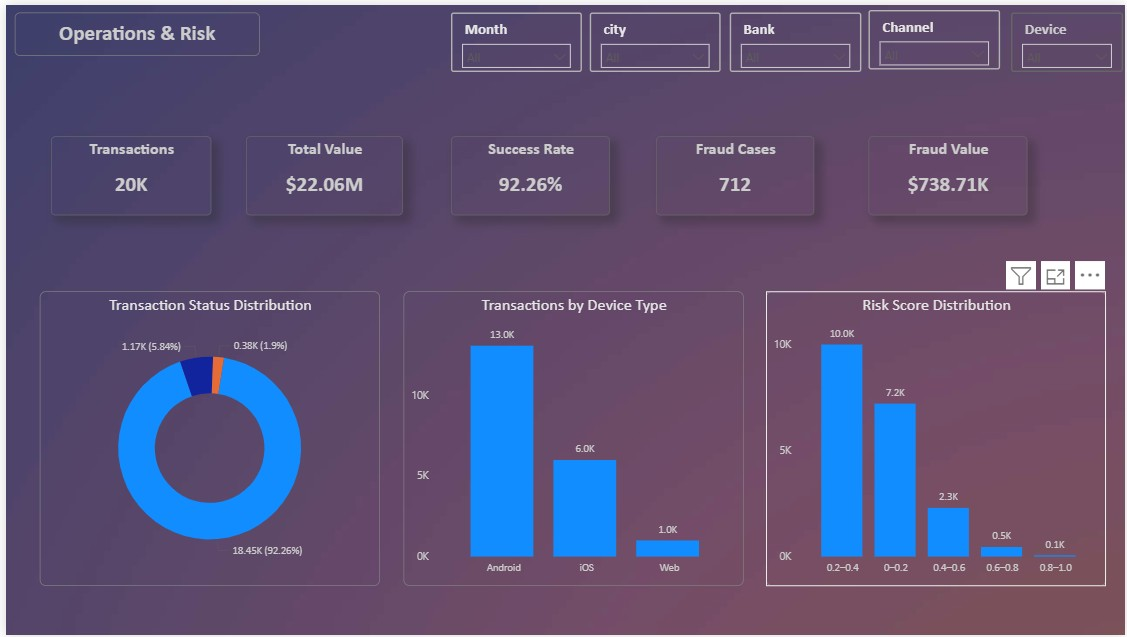

The dashboard page shown, as its layout file describes it:
{"tool":"powerbi","page":{"name":"Operations & Risk","canvas":[1280,720],"ordinal":2},"visuals":[{"type":"textbox","box":[10.5,9.2,280.1,49.7],"z":0},{"type":"card","title":"Transactions  ","fields":{"Values":["upi_transactions1.Total Transactions"]},"box":[51.1,150.5,183.3,90.3],"z":1000},{"type":"card","title":"Total Value","fields":{"Values":["upi_transactions1.Total Value"]},"box":[274.9,150.5,179.3,90.3],"z":2000},{"type":"card","title":"Success Rate  ","fields":{"Values":["upi_transactions1.Success Rate %"]},"box":[507.9,150.5,182,90.3],"z":3000},{"type":"card","title":" Fraud Cases ","fields":{"Values":["upi_transactions1.Fraud Cases"]},"box":[742.2,150.5,180.7,90.3],"z":4000},{"type":"card","title":"Fraud Value   ","fields":{"Values":["upi_transactions1.Fraud Value"]},"box":[985.7,150.5,182,90.3],"z":5000},{"type":"donutChart","title":"Transaction Status Distribution","fields":{"Y":["CountNonNull(upi_transactions1.transaction_id)"],"Category":["upi_transactions1.status"]},"box":[39.3,327.3,388.8,336.4],"z":5001},{"type":"clusteredColumnChart","title":"Transactions by Device Type","fields":{"Category":["upi_transactions1.device_type"],"Y":["CountNonNull(upi_transactions1.transaction_id)"]},"box":[454.2,327.3,388.8,336.4],"z":5004},{"type":"clusteredColumnChart","title":"Risk Score Distribution","fields":{"Category":["upi_transactions1.Risk Score Band"],"Y":["CountNonNull(upi_transactions1.transaction_id)"]},"box":[867.9,327.3,388.8,336.4],"z":5005},{"type":"slicer","fields":{"Values":["upi_transactions1.channel"]},"box":[986.3,6.3,150.2,68],"z":5006},{"type":"slicer","fields":{"Values":["upi_transactions1.bank"]},"box":[826.7,7.9,150.2,68],"z":5007},{"type":"slicer","fields":{"Values":["upi_transactions1.city"]},"box":[667.6,9.2,149.2,68.1],"z":5008},{"type":"slicer","fields":{"Values":["upi_transactions1.month"]},"box":[507.9,9.2,149.2,68.1],"z":5009},{"type":"slicer","fields":{"Values":["upi_transactions1.device_type"]},"box":[1149.1,7.9,128,68],"z":5010}]}

Visuals, with their boxes in screenshot pixels (x1, y1, x2, y2), scaled from the page's 1280x720 canvas onto the 1127x637 screenshot:
textbox: (x1=9, y1=8, x2=256, y2=52)
"Transactions  " card: (x1=45, y1=133, x2=206, y2=213)
"Total Value" card: (x1=242, y1=133, x2=400, y2=213)
"Success Rate  " card: (x1=447, y1=133, x2=607, y2=213)
" Fraud Cases " card: (x1=653, y1=133, x2=813, y2=213)
"Fraud Value   " card: (x1=868, y1=133, x2=1028, y2=213)
"Transaction Status Distribution" donutChart: (x1=35, y1=290, x2=377, y2=587)
"Transactions by Device Type" clusteredColumnChart: (x1=400, y1=290, x2=742, y2=587)
"Risk Score Distribution" clusteredColumnChart: (x1=764, y1=290, x2=1106, y2=587)
slicer - upi_transactions1.channel: (x1=868, y1=6, x2=1001, y2=66)
slicer - upi_transactions1.bank: (x1=728, y1=7, x2=860, y2=67)
slicer - upi_transactions1.city: (x1=588, y1=8, x2=719, y2=68)
slicer - upi_transactions1.month: (x1=447, y1=8, x2=579, y2=68)
slicer - upi_transactions1.device_type: (x1=1012, y1=7, x2=1124, y2=67)
